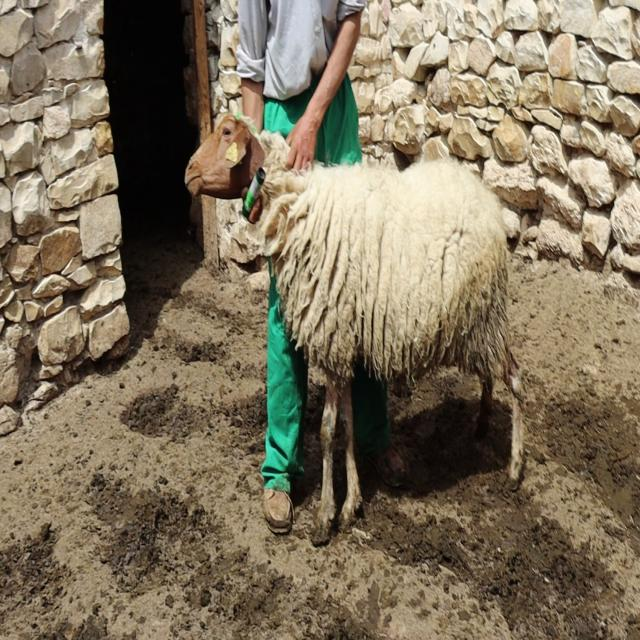Score_3: (185, 114, 525, 538)
